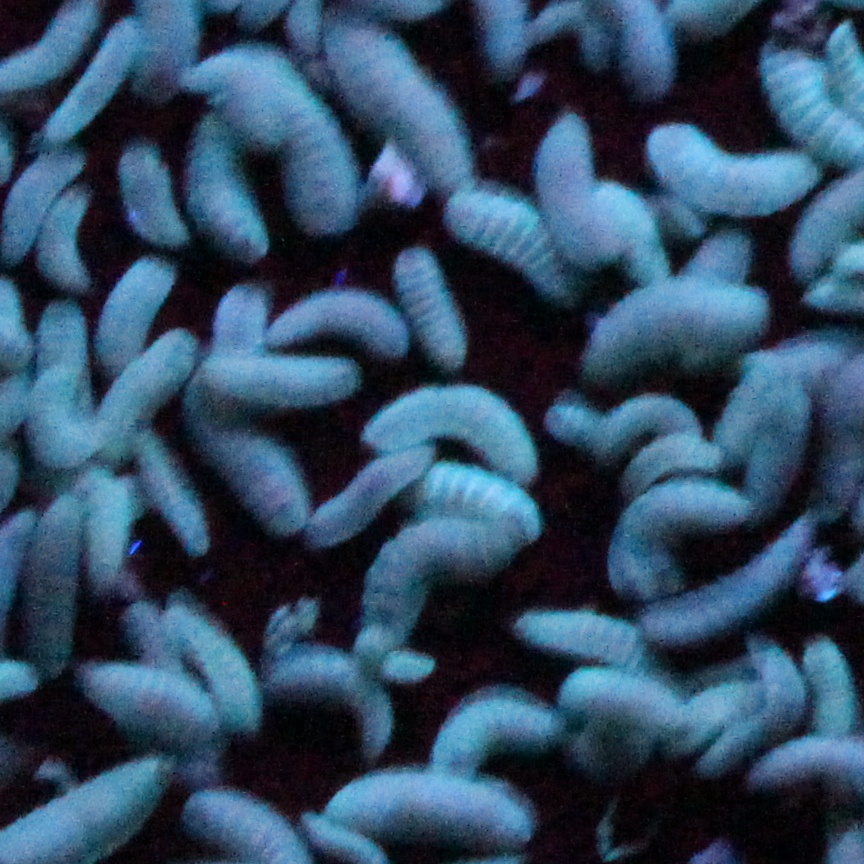larve: (251, 642, 383, 753), (86, 653, 222, 760), (577, 299, 749, 378), (369, 521, 504, 617), (366, 19, 445, 175), (273, 103, 362, 238), (104, 328, 201, 450), (151, 603, 261, 710), (372, 388, 537, 459), (662, 131, 792, 217), (277, 280, 410, 362), (180, 131, 265, 257), (722, 385, 797, 525), (622, 482, 729, 578), (397, 464, 540, 532), (340, 775, 519, 828), (106, 138, 180, 257), (522, 607, 644, 678), (661, 685, 751, 775), (437, 197, 548, 269), (150, 437, 211, 564), (436, 710, 544, 778), (226, 439, 297, 532), (219, 357, 369, 396), (556, 121, 599, 251), (801, 642, 861, 732), (751, 657, 801, 757), (36, 510, 65, 678), (57, 184, 94, 302), (81, 34, 111, 131), (11, 162, 43, 252), (411, 247, 433, 359)
